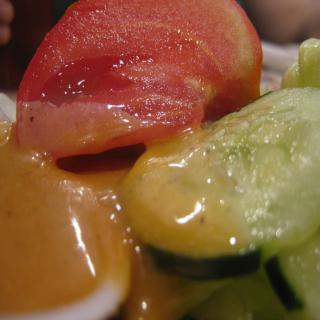tomato: (17, 0, 264, 166)
